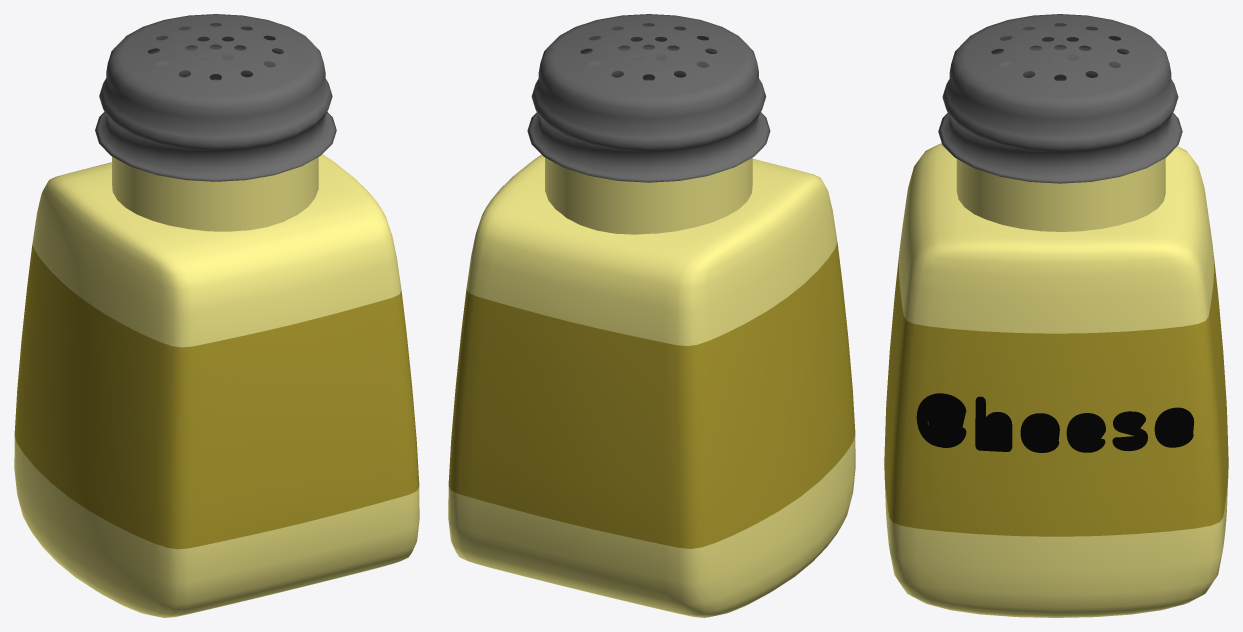
Rendered from POWDER CHEESE.fbx.
The picture shows the model from 3 angles, left to right: view 1: azimuth 30°, elevation 25°; view 2: azimuth 150°, elevation 25°; view 3: azimuth 270°, elevation 25°; orthographic projection.
Parts seen in each view (by area): view 1: Jar, Peeper, Cylinder; view 2: Jar, Peeper, Cylinder; view 3: Jar, Peeper, Cylinder, Text.001.
Part boxes in pixels (<box>): Jar: <box>14,154,419,617</box>; Peeper: <box>95,14,336,181</box>; Cylinder: <box>112,156,318,231</box>; Jar: <box>448,154,855,617</box>; Peeper: <box>527,14,770,182</box>; Cylinder: <box>545,157,752,234</box>; Jar: <box>884,143,1228,617</box>; Peeper: <box>938,14,1182,183</box>; Cylinder: <box>956,158,1165,231</box>; Text.001: <box>916,393,1194,452</box>.
Bounding box in the file's own units: 222 × 359 × 219.
